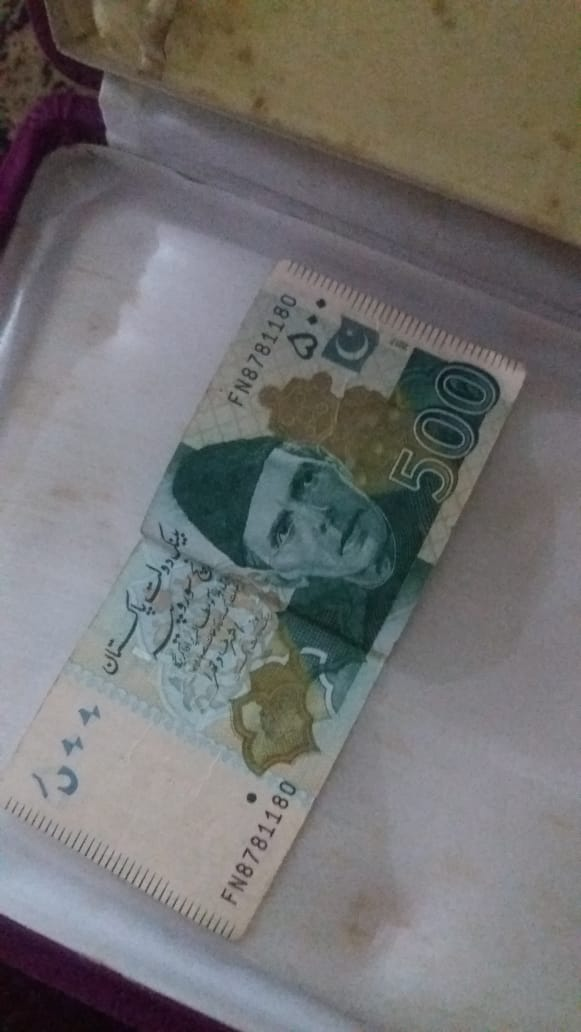500 rupee: (5, 255, 539, 995)
